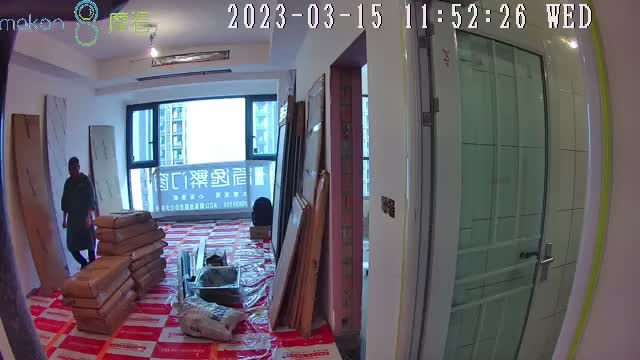people: (61, 157, 97, 265)
window: (127, 97, 278, 218)
